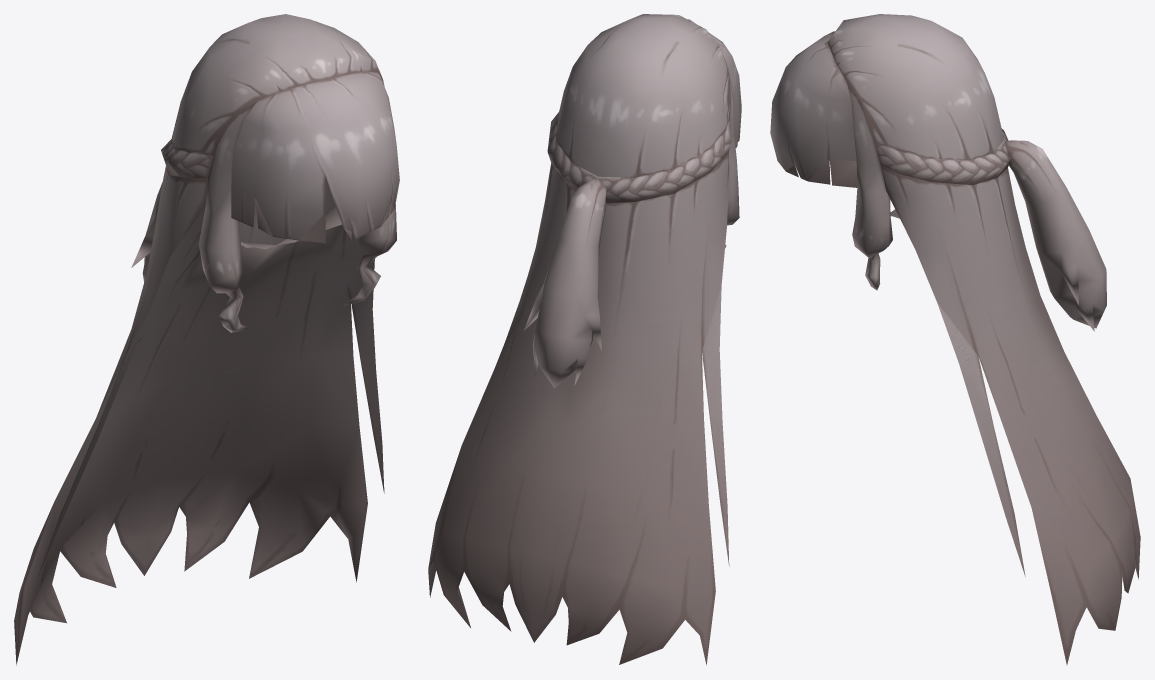
Rendered from hair_f_long_4.fbx.
The picture shows the model from 3 angles, left to right: view 1: azimuth 30°, elevation 25°; view 2: azimuth 150°, elevation 25°; view 3: azimuth 270°, elevation 25°; orthographic projection. The views are drawn at different scales.
Parts seen in each view (by area): view 1: hair_f_long_4; view 2: hair_f_long_4; view 3: hair_f_long_4.
Part boxes in pixels (x1,y1,x2,y2): hair_f_long_4: (14, 14, 399, 665); hair_f_long_4: (428, 14, 741, 665); hair_f_long_4: (770, 14, 1140, 664).
Bounding box in the file's own units: 48.02 × 88.44 × 51.92.
